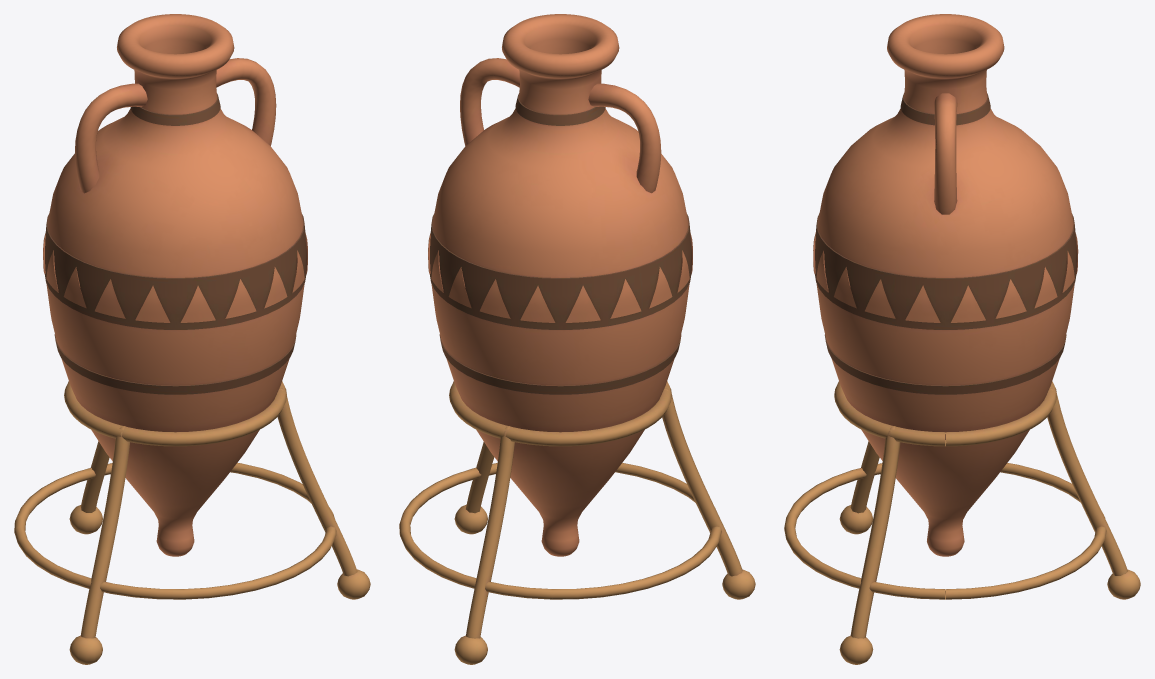
Rendered from CC0_Amphora.glb.
3 renders of one model, left to right at view 1: azimuth 30°, elevation 25°; view 2: azimuth 150°, elevation 25°; view 3: azimuth 270°, elevation 25°, orthographic.
Parts seen in each view (by area): view 1: amphora_body; view 2: amphora_body; view 3: amphora_body.
Part boxes in pixels (x1,y1,x2,y2): amphora_body: [14, 14, 370, 664]; amphora_body: [399, 14, 755, 664]; amphora_body: [784, 14, 1140, 664].
Bounding box in the file's own units: 0.4897 × 0.8866 × 0.5099.
1 material, 1 textured.
